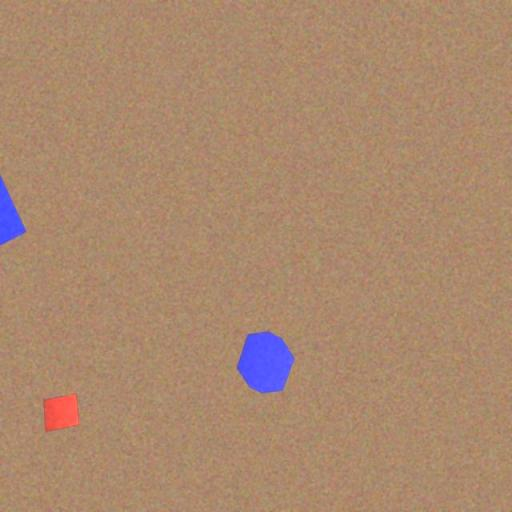BLUE_SQUARE: (0, 167, 27, 261)
RED_SQUARE: (42, 393, 80, 433)
